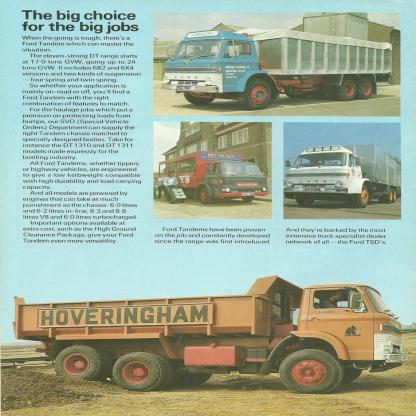Truck: (18, 283, 414, 393), (158, 20, 396, 111), (280, 142, 400, 206), (156, 152, 267, 205)
